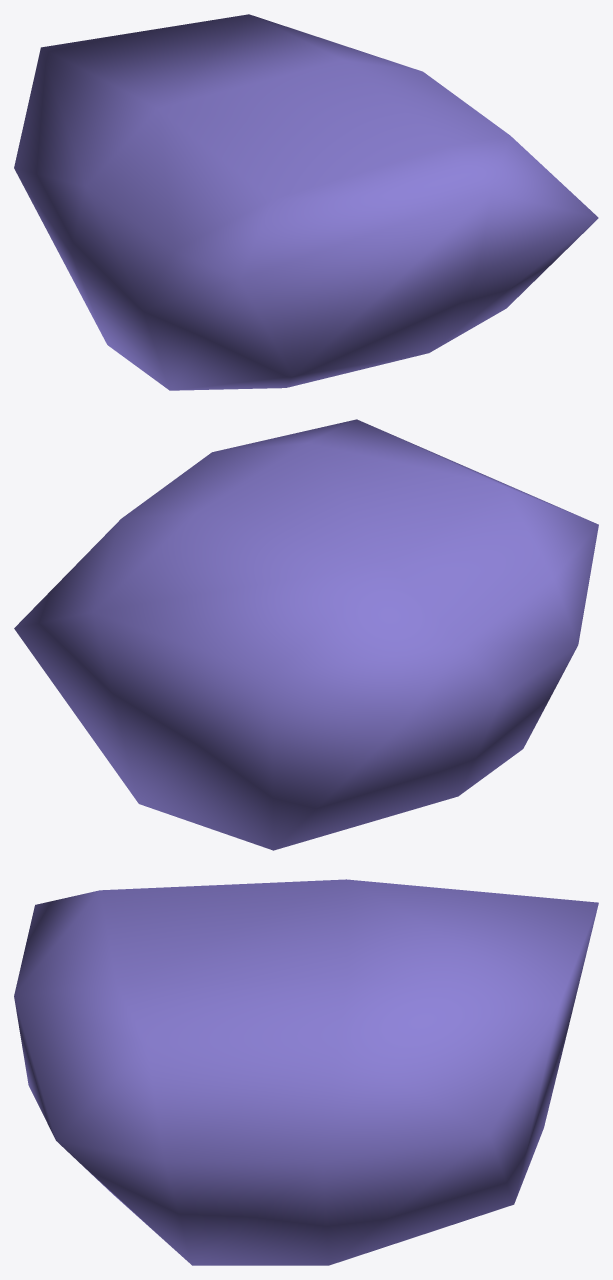
File: Rock_Medium.fbx
The picture shows the model from 3 angles, top to bottom: view 1: azimuth 30°, elevation 25°; view 2: azimuth 150°, elevation 25°; view 3: azimuth 270°, elevation 25°; orthographic projection. The views are drawn at different scales.
Parts seen in each view (by area): view 1: Rock_Medium; view 2: Rock_Medium; view 3: Rock_Medium.
Boxes of the visible parts, x1,y1,x2,y2 form: Rock_Medium: [14, 14, 598, 390]; Rock_Medium: [14, 419, 598, 850]; Rock_Medium: [14, 879, 598, 1265].
Size of the model in its own units: 71.92 by 35.7 by 78.89.
